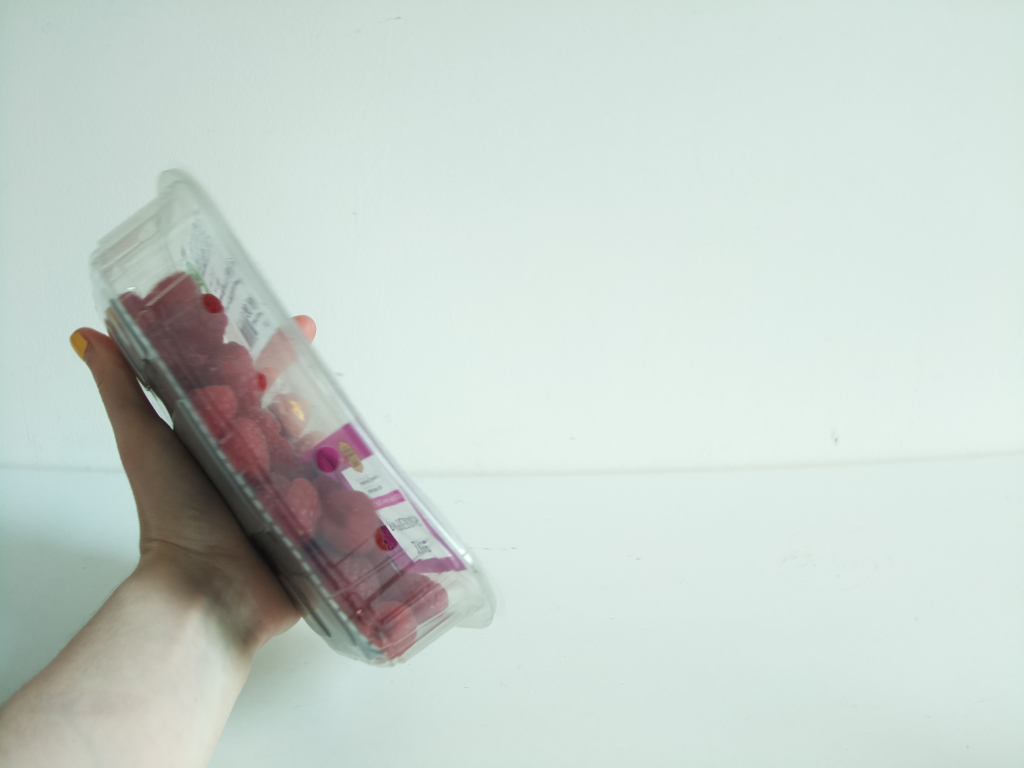soft-fruit: (87, 161, 496, 670)
